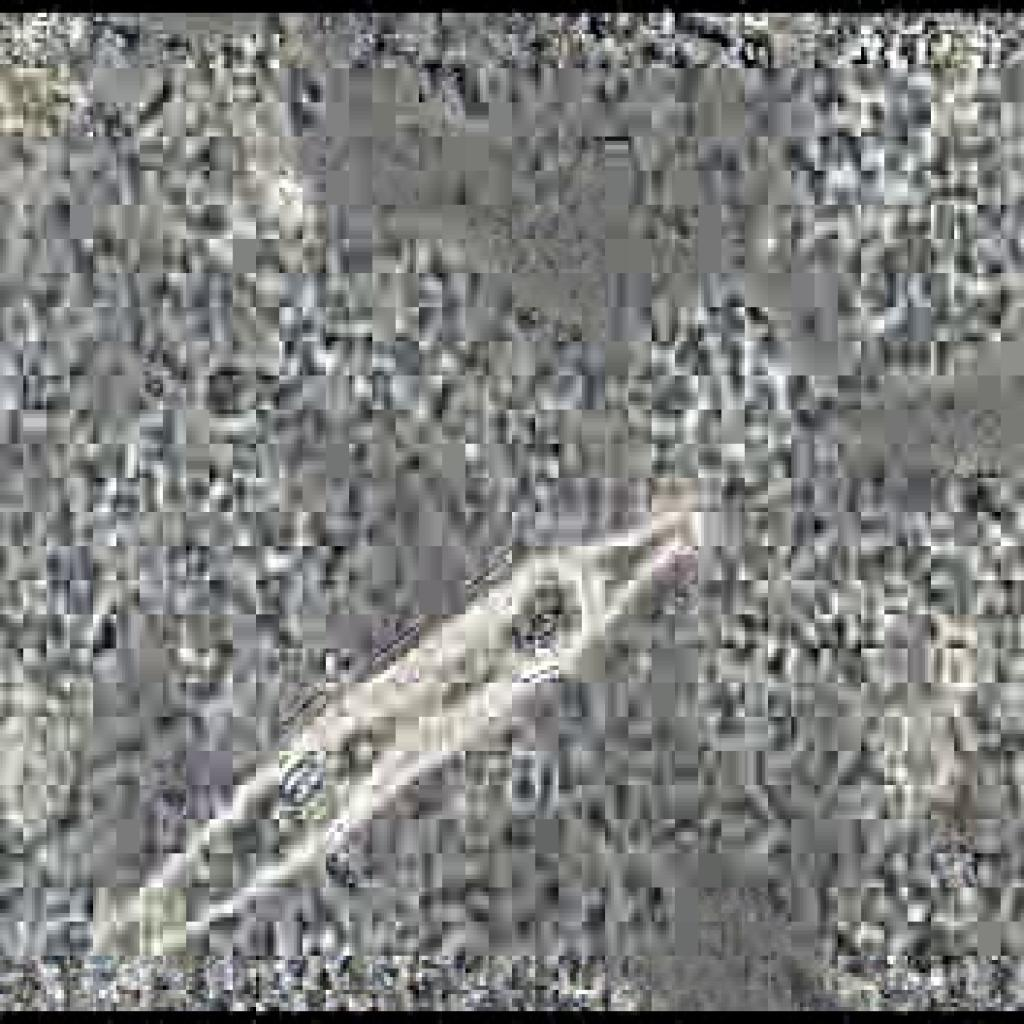Rotatoria: (100, 495, 691, 973)
